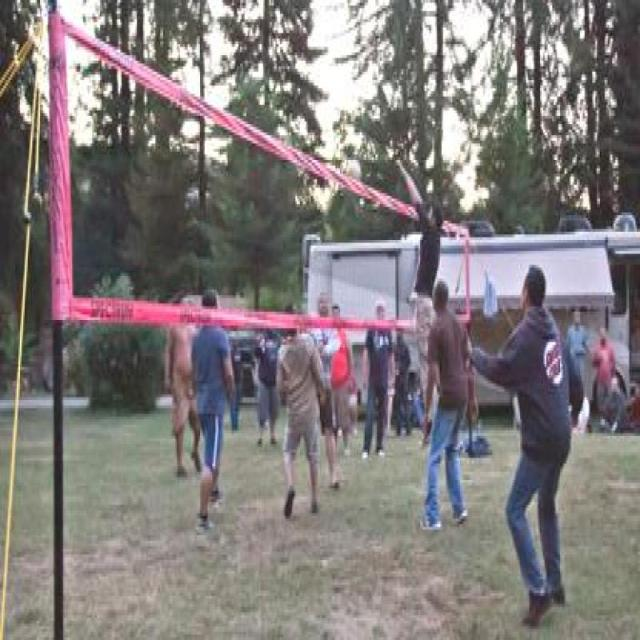volleyball: (346, 160, 364, 185)
